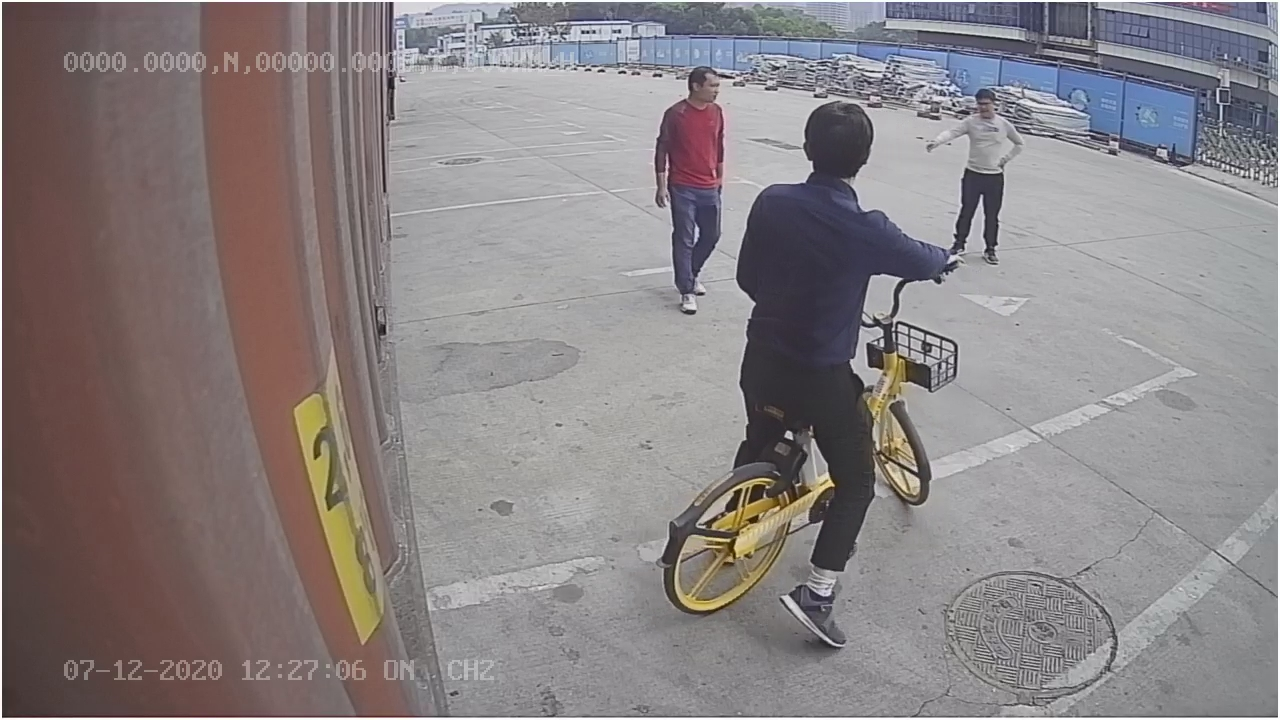person: (646, 60, 733, 317)
